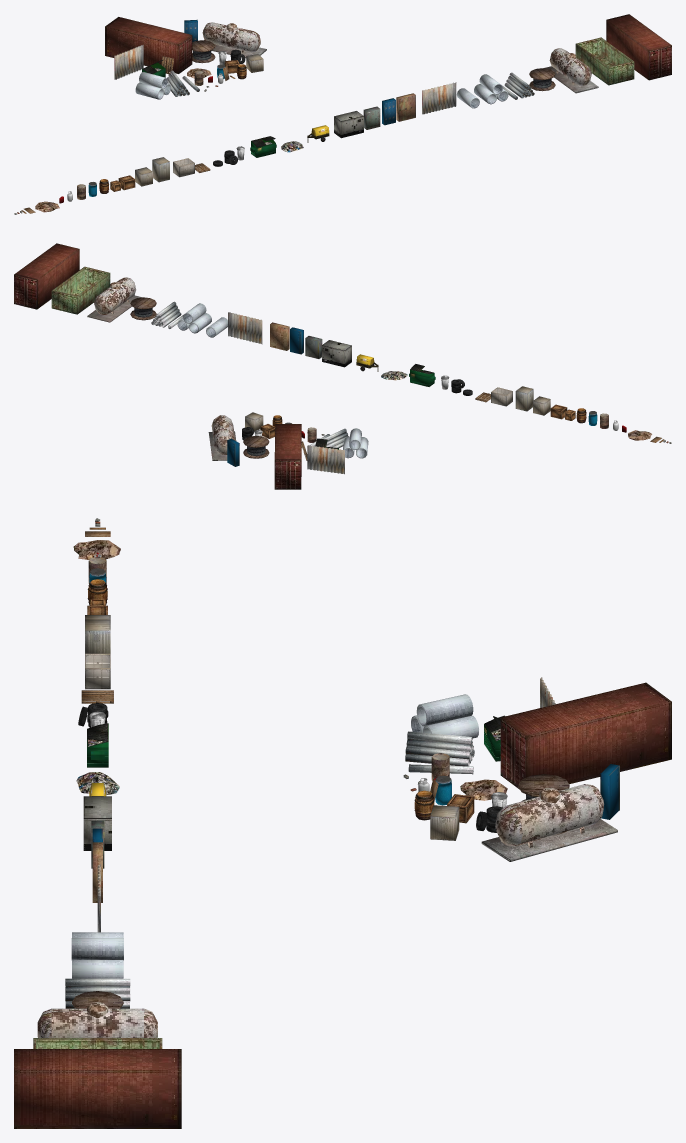
The model's file is p_industrial.glb.
The picture shows the model from 3 angles, top to bottom: view 1: azimuth 30°, elevation 25°; view 2: azimuth 150°, elevation 25°; view 3: azimuth 270°, elevation 25°; orthographic projection. The views are drawn at different scales.
Parts seen in each view (by area): view 1: Showcase, CargoContainer, TrashContainer, PropaneTank, MetalSheet, GeneratorUnit, ConcretePipePile, Spool, Locker2, MetalPipePile, CrateMetal2, TransformerBox (+3 smaller); view 2: Showcase, CargoContainer, TrashContainer, PropaneTank, MetalSheet, GeneratorUnit, ConcretePipePile, Spool, Locker2, MetalPipePile, CrateMetal2; view 3: Showcase, CargoContainer, PropaneTank, ConcretePipePile, TrashContainer, MetalPipePile, GeneratorUnit, Crate, CrateMetal2.
Part boxes in pixels (x1,y1,x2,y2): Showcase: (105,17,266,99); CargoContainer: (606,14,671,80); TrashContainer: (575,37,634,85); PropaneTank: (543,48,598,93); MetalSheet: (422,82,456,114); GeneratorUnit: (334,111,363,138); ConcretePipePile: (474,74,508,104); Spool: (529,68,555,91); Locker2: (396,93,415,121); MetalPipePile: (504,72,534,98); CrateMetal2: (152,157,169,182); TransformerBox: (363,106,380,129); Showcase: (208,412,368,489); CargoContainer: (14,243,79,309); TrashContainer: (51,266,110,314); PropaneTank: (87,277,141,322); MetalSheet: (228,312,262,344); GeneratorUnit: (322,340,351,367); ConcretePipePile: (177,303,211,333); Spool: (130,297,156,320); Locker2: (270,322,289,350); MetalPipePile: (151,301,181,327); CrateMetal2: (515,386,533,411); Showcase: (403,677,671,861); CargoContainer: (14,1049,181,1128); PropaneTank: (37,1002,157,1037); ConcretePipePile: (71,938,123,978); TrashContainer: (33,1038,162,1048); MetalPipePile: (65,978,130,1008); GeneratorUnit: (83,796,111,850); Crate: (85,653,110,689); CrateMetal2: (85,619,110,653).
Bounding box in the file's own units: 55.9 × 2.5 × 25.52.
2 materials, 2 textured.
